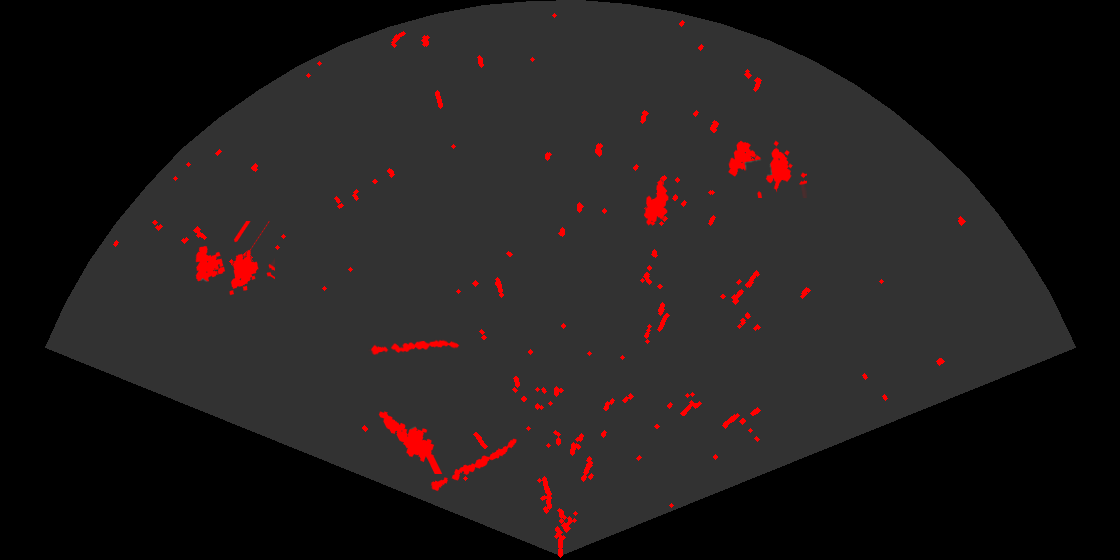AUV: (642, 178, 670, 227)
cage: (194, 221, 275, 297), (727, 139, 807, 198)
chain: (429, 437, 518, 493), (368, 338, 461, 356)
frogman: (377, 410, 444, 474)
